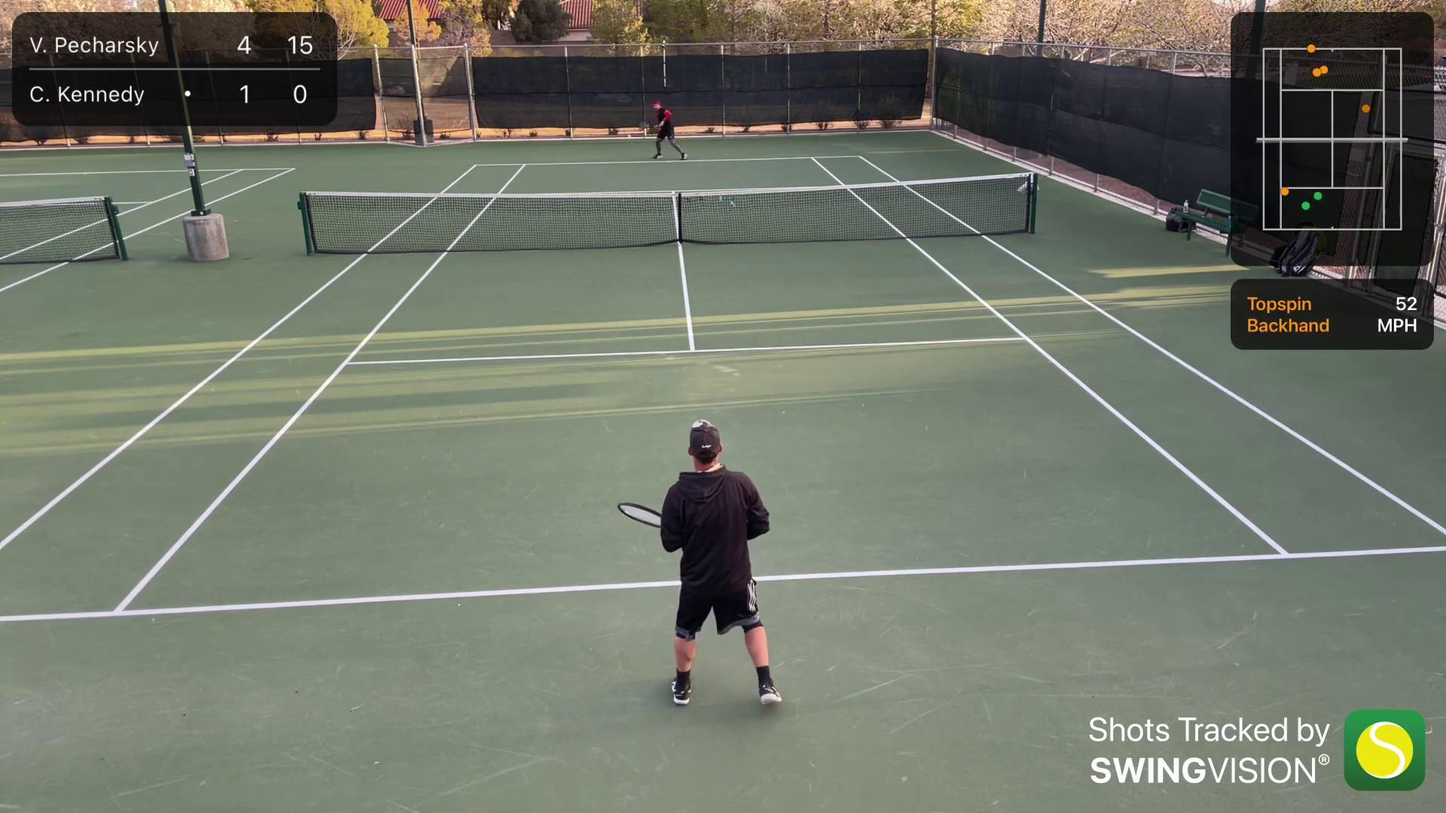ball: (627, 133, 634, 138)
